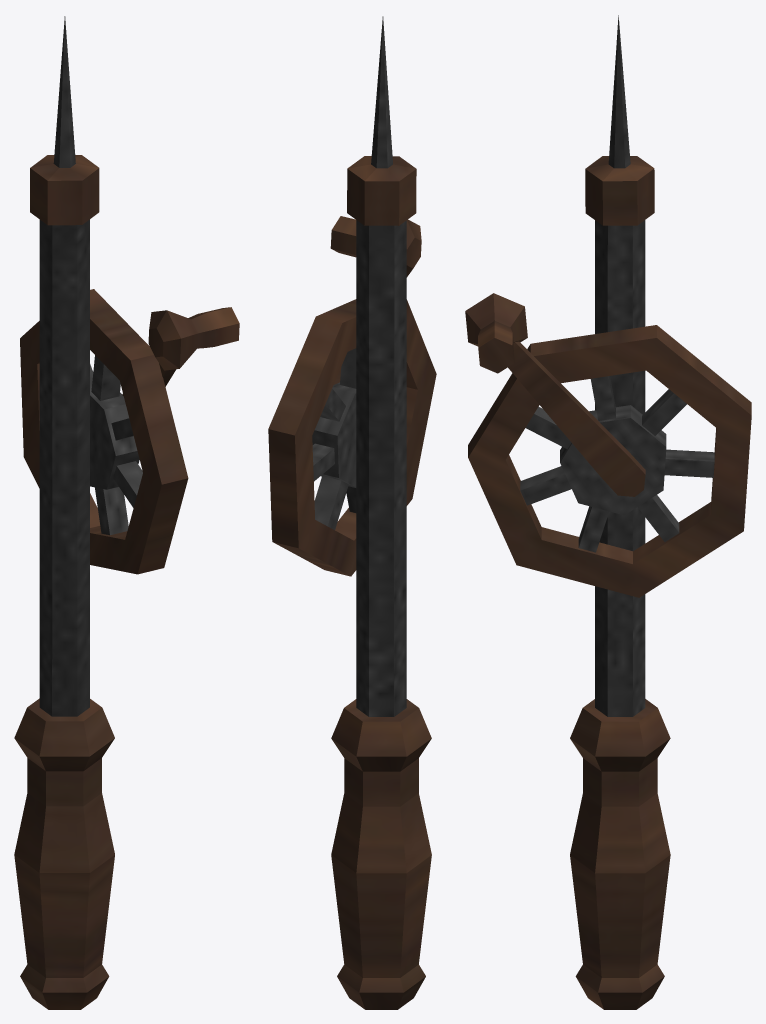
File: HandDrill.fbx
3 views of the same model, side by side, from view 1: azimuth 30°, elevation 25°; view 2: azimuth 150°, elevation 25°; view 3: azimuth 270°, elevation 25° (orthographic).
Visible parts, largest first — view 1: Cylinder.011; view 2: Cylinder.011; view 3: Cylinder.011.
Boxes of the visible parts, x1,y1,x2,y2 form: Cylinder.011: [14, 16, 239, 1009]; Cylinder.011: [268, 16, 436, 1009]; Cylinder.011: [465, 15, 751, 1009].
Size of the model in its own units: 15.54 by 103 by 27.22.
